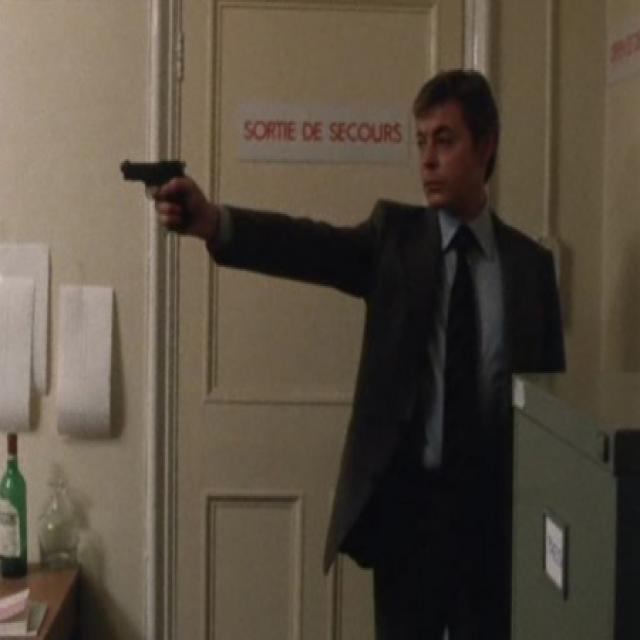weapons: (109, 133, 207, 250)
